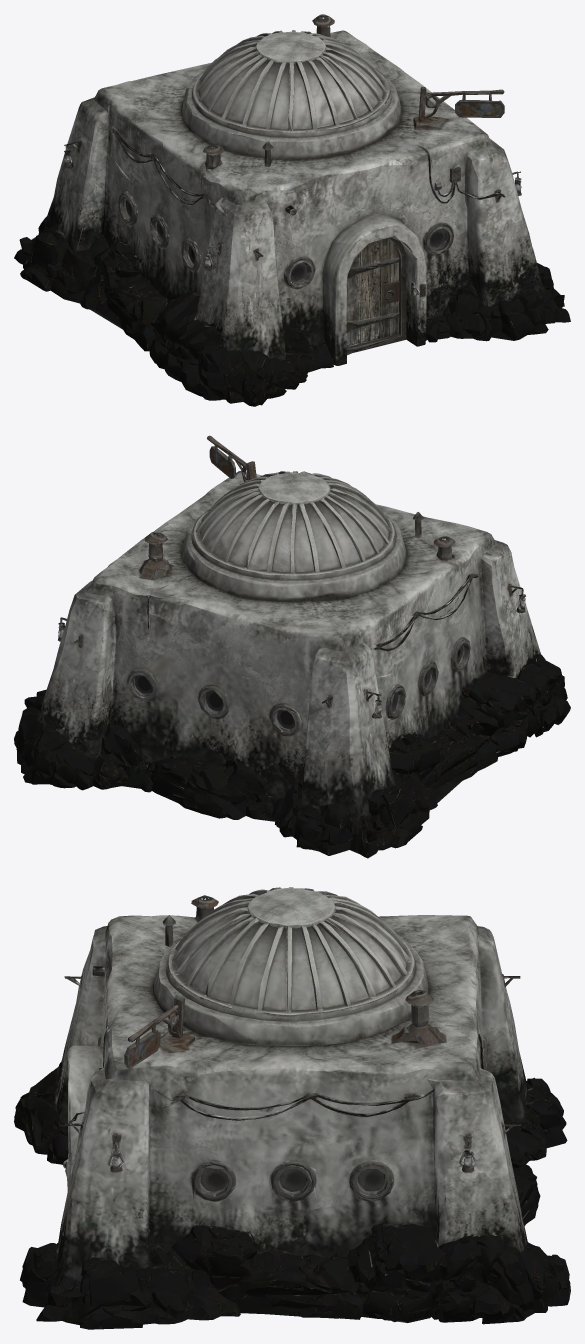
Rendered from nevarrocantina.glb.
3 views of the same model, one above another, from view 1: azimuth 30°, elevation 25°; view 2: azimuth 150°, elevation 25°; view 3: azimuth 270°, elevation 25° (orthographic). The views are drawn at different scales.
Visible parts, largest first — view 1: nevarrocantina-centred; view 2: nevarrocantina-centred; view 3: nevarrocantina-centred.
Boxes of the visible parts, x1,y1,x2,y2 form: nevarrocantina-centred: (14, 14, 570, 406); nevarrocantina-centred: (14, 435, 570, 858); nevarrocantina-centred: (14, 887, 570, 1329).
Bounding box in the file's own units: 18.46 × 11.36 × 18.5.
1 material, 1 textured.
